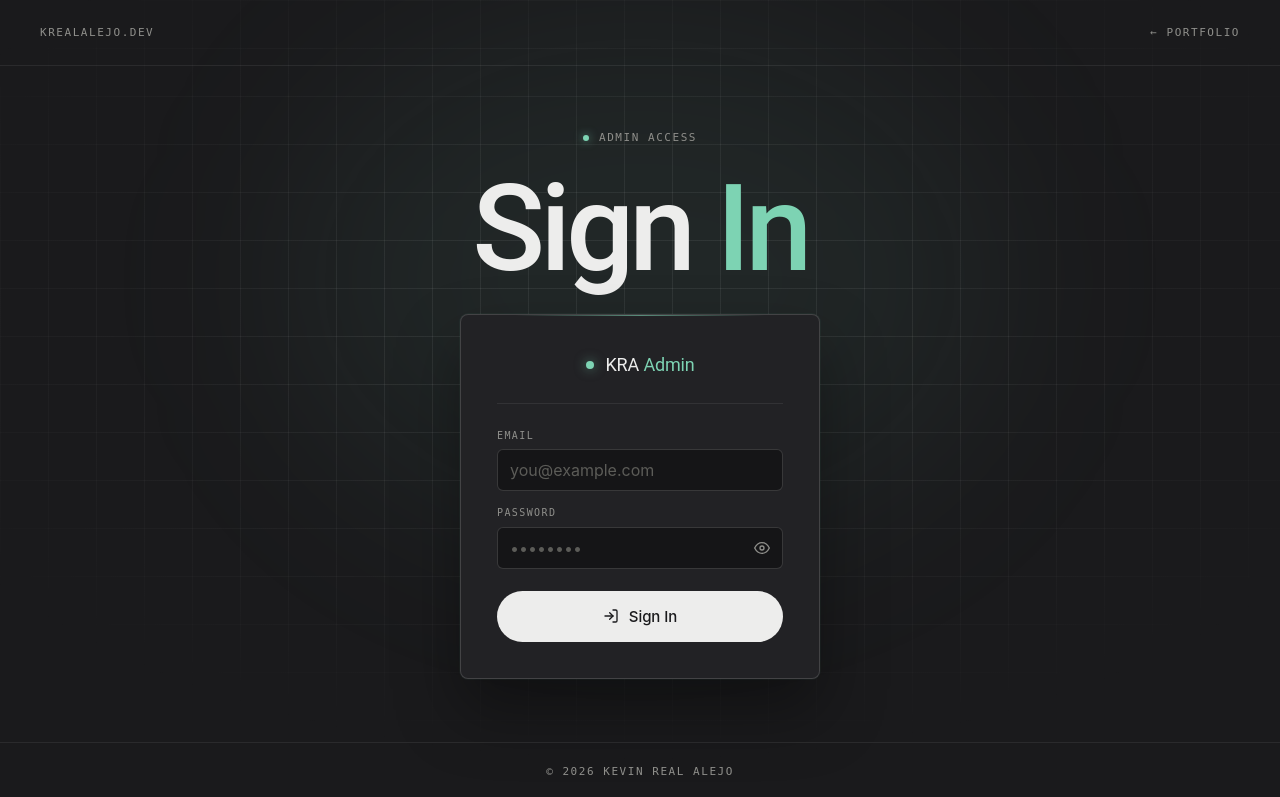
pages/admin/login.vue › shows generic fallback error for unknown status codes
The width and height of the screenshot is (1280, 797).
Type "a@b.com" into the field labelled "Email". click: (640, 470)
box: [497,449,783,491]
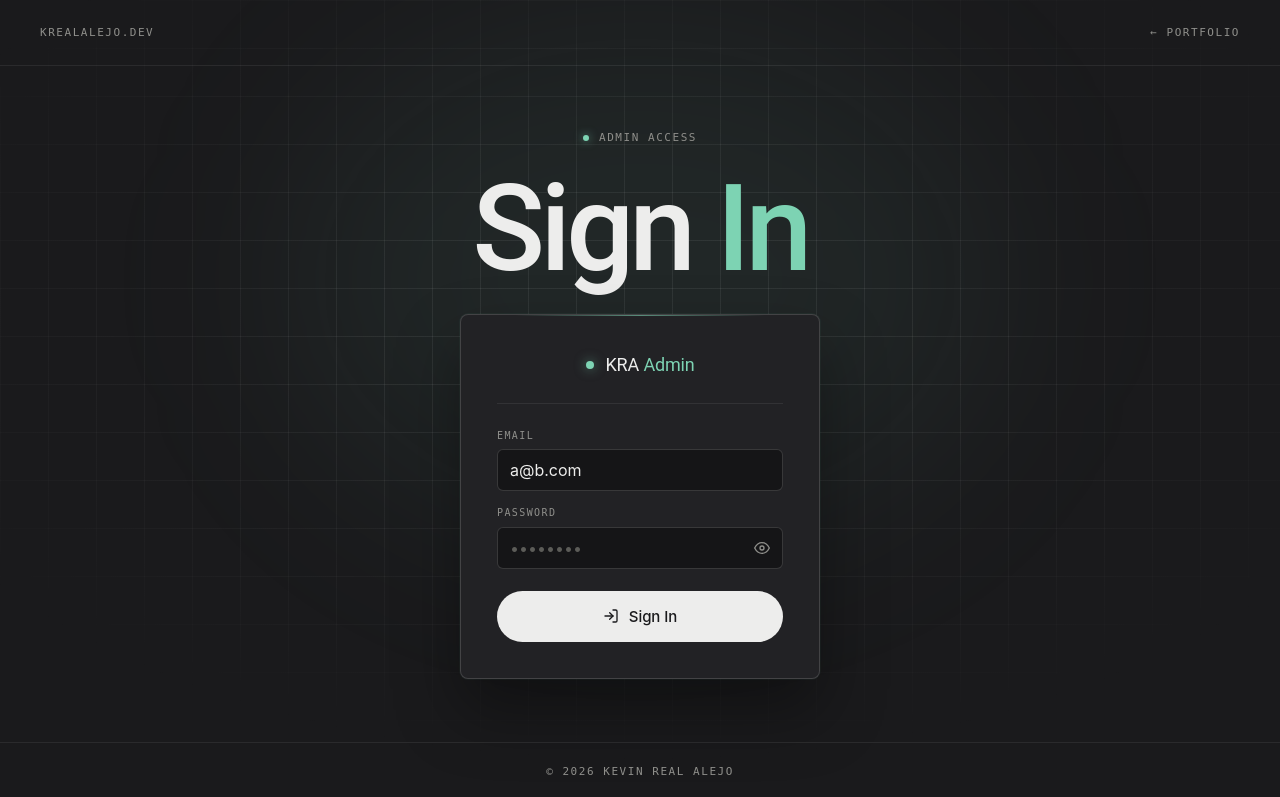
Type "pass" into the password field labelled "Password". click: (640, 548)
box: [497,527,783,569]
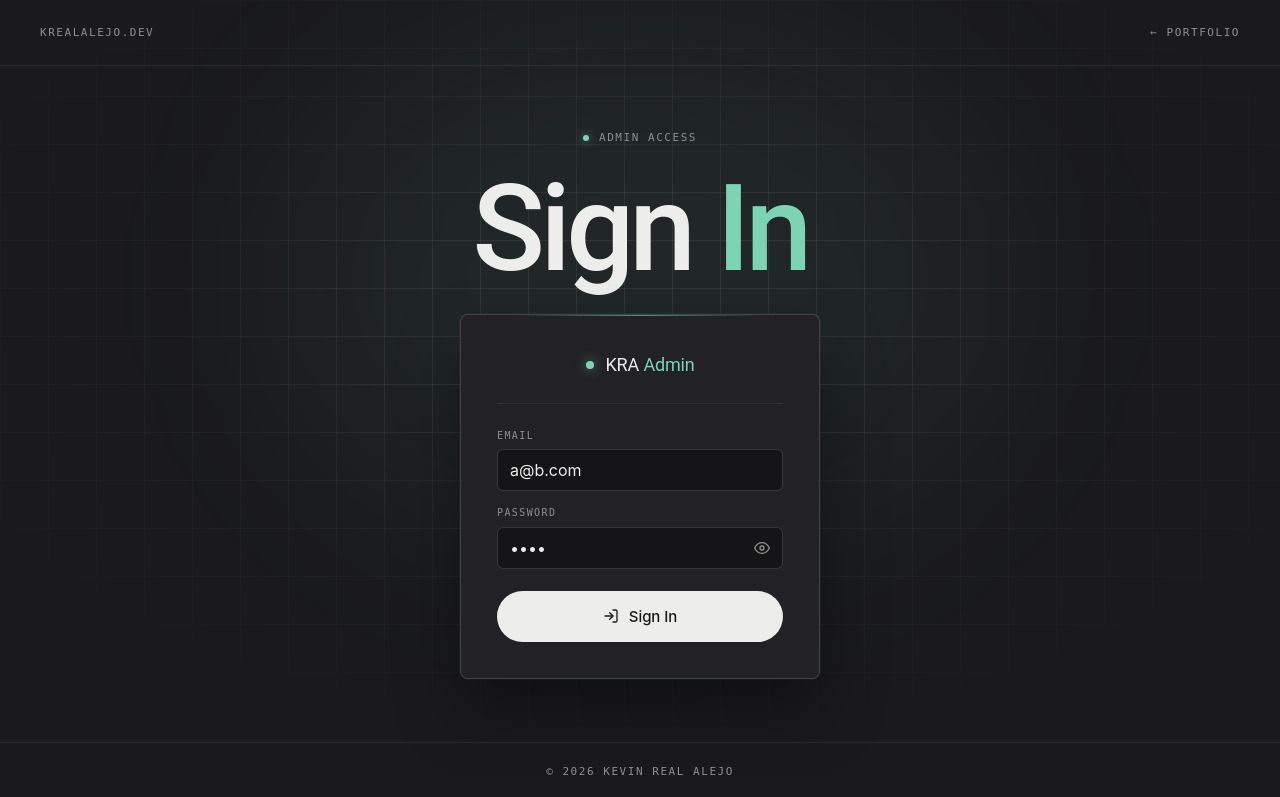
Submit the form, box [460,314,820,679]
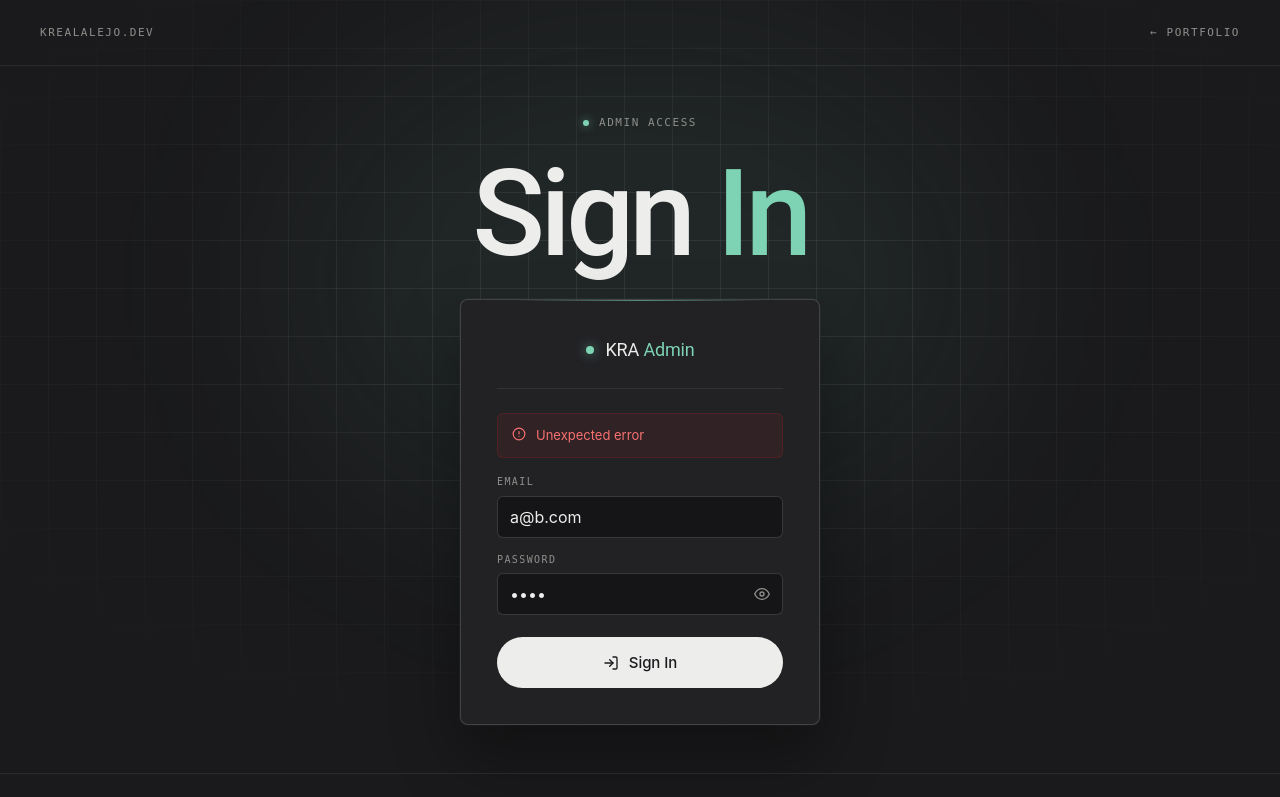
Expected: the message "Unexpected error" is shown, [497,413,783,458]
